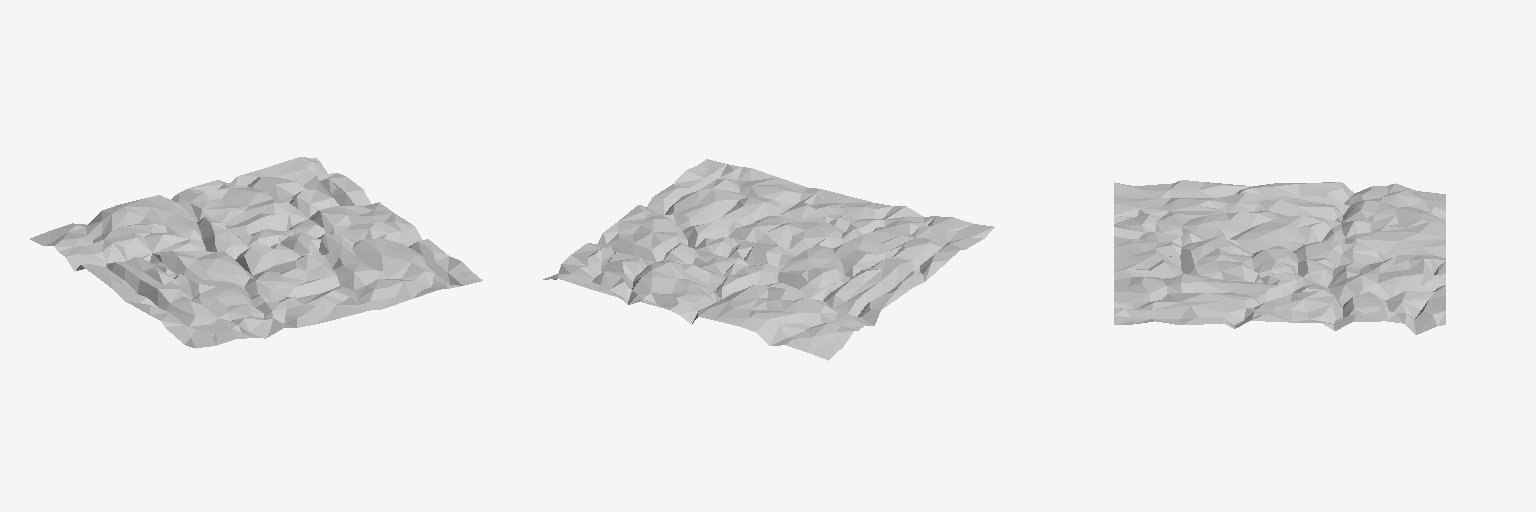
Rendered from stones.obj.
The picture shows the model from 3 angles: view 1: azimuth 30°, elevation 25°; view 2: azimuth 150°, elevation 25°; view 3: azimuth 270°, elevation 25°; orthographic projection.
Visible parts, largest first — view 1: stones; view 2: stones; view 3: stones.
Part boxes in pixels (bbox=[...]): stones: bbox=[30, 157, 482, 348]; stones: bbox=[543, 159, 994, 360]; stones: bbox=[1114, 180, 1445, 334].
Size of the model in its own units: 6 by 0.3646 by 6.